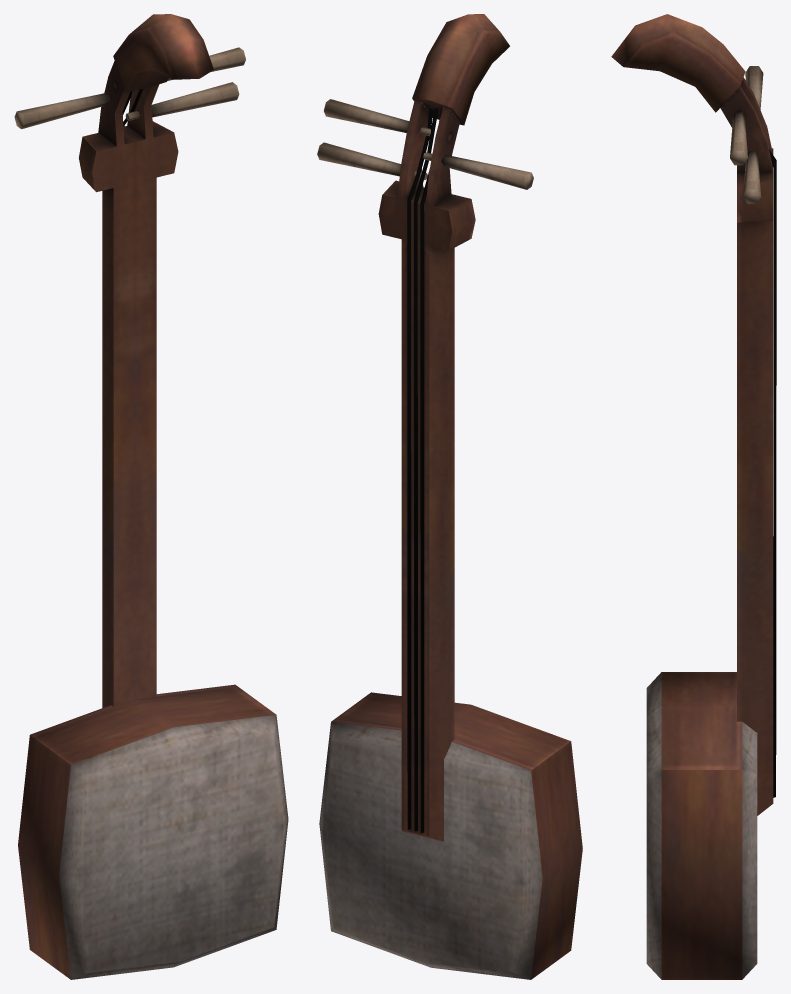
Rendered from Shamisen.FBX.
3 renders of one model, left to right at view 1: azimuth 30°, elevation 25°; view 2: azimuth 150°, elevation 25°; view 3: azimuth 270°, elevation 25°, orthographic. The views are drawn at different scales.
Parts seen in each view (by area): view 1: shamisen; view 2: shamisen; view 3: shamisen.
Part boxes in pixels (x1,y1,x2,y2): shamisen: (14, 14, 288, 979); shamisen: (317, 14, 582, 979); shamisen: (611, 14, 776, 979).
Size of the model in its own units: 17.55 by 69.54 by 11.22.
